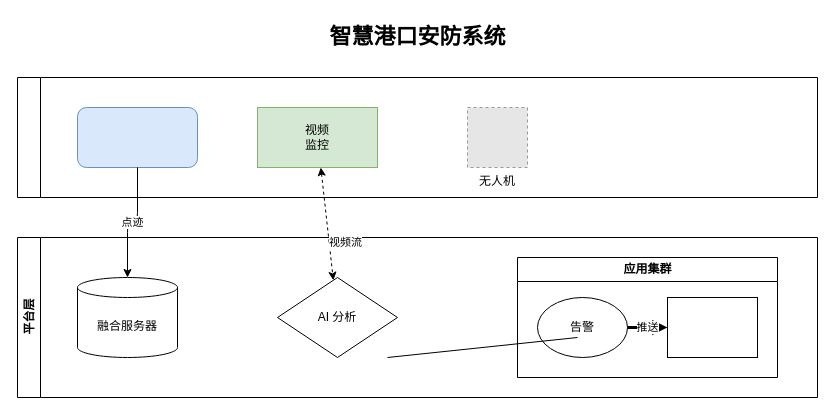
Image size: 835x415. Some labels were removed from this diagram. Grey dashed boxes stand in for pictures. The shapes that lost their labels are listed below. From the top down, each one's box as (x1, y1, x2, y2) in pixels, then its label:
(76, 106, 198, 168): 雷达
(16, 76, 818, 198): 感知层
(666, 296, 758, 358): 大屏
